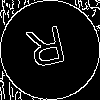R: (25, 25, 71, 77)
